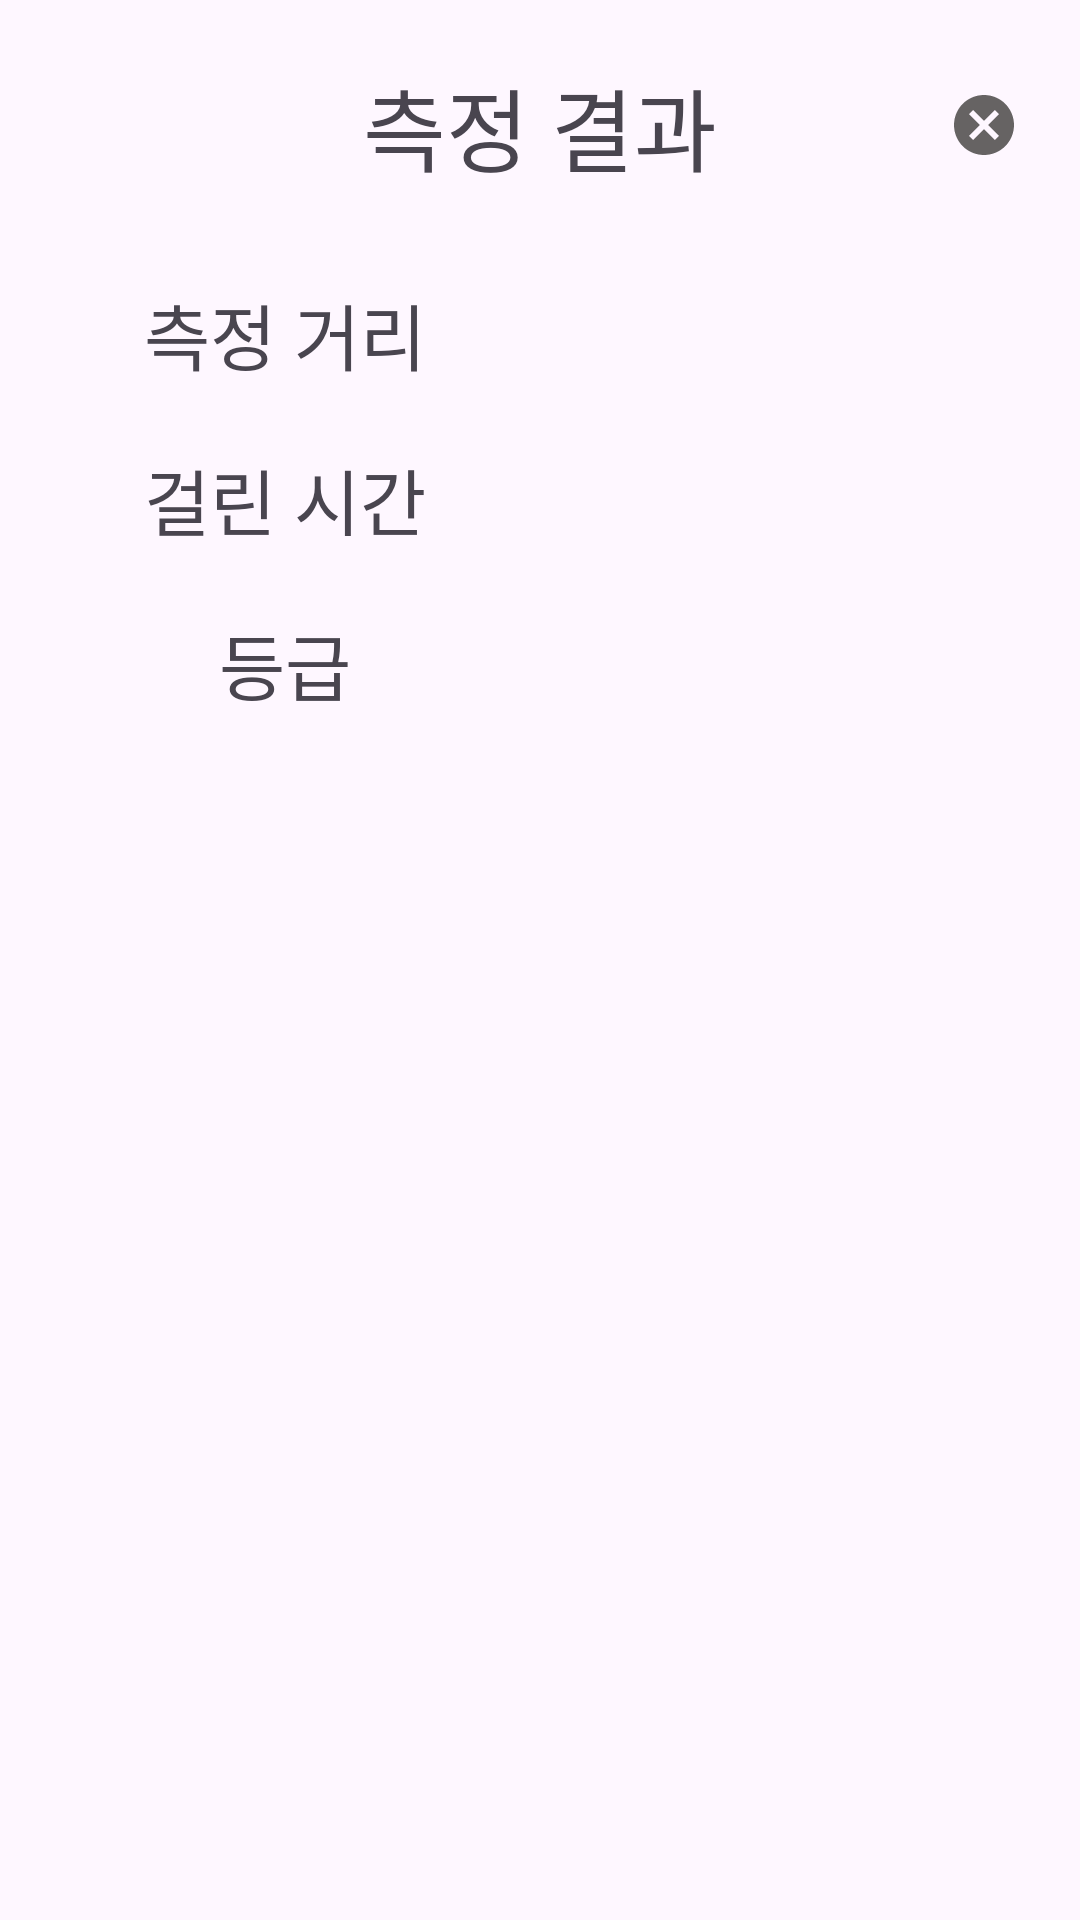

Locate icon controls on the screen. Image size 1080 × 1920, boxes as (x1,y1,x2,y2).
cancel: (954,95,1014,155)
